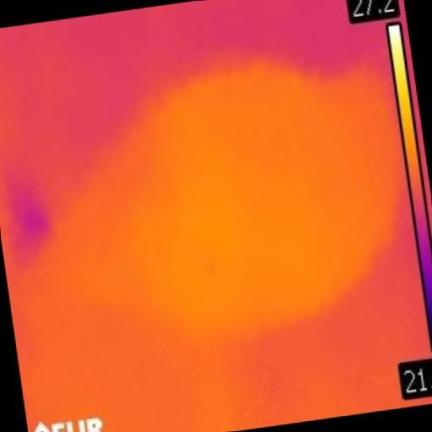mango: (27, 60, 398, 333)
